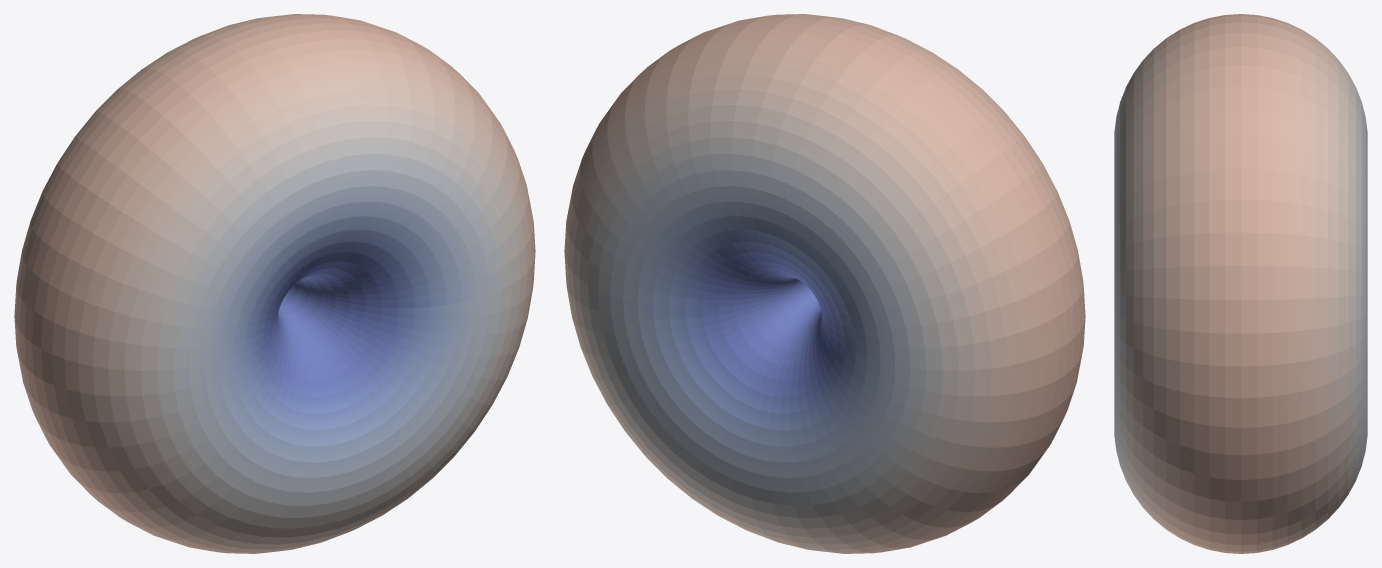
The picture shows the model from 3 angles, left to right: view 1: azimuth 30°, elevation 25°; view 2: azimuth 150°, elevation 25°; view 3: azimuth 270°, elevation 25°; orthographic projection. The views are drawn at different scales.
Visible parts, largest first — view 1: world; view 2: world; view 3: world.
Part boxes in pixels (bbox=[...]): world: bbox=[14, 14, 535, 553]; world: bbox=[564, 14, 1085, 553]; world: bbox=[1114, 14, 1367, 553].
Bounding box in the file's own units: 20.13 × 20.09 × 9.45.
